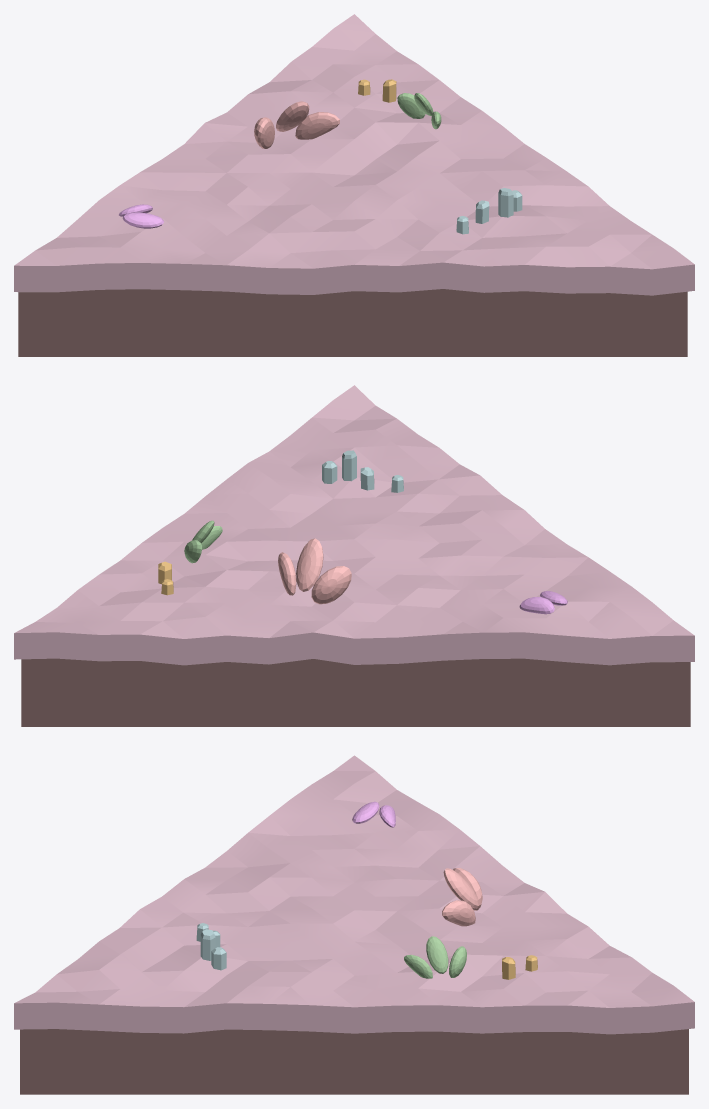
The model's file is TILE_06_01_Candy.fbx.
3 views of the same model, one above another, from view 1: azimuth 30°, elevation 25°; view 2: azimuth 150°, elevation 25°; view 3: azimuth 270°, elevation 25° (orthographic).
Parts seen in each view (by area): view 1: TILESURFACE15, TILE19, pSphere20 1, pSphere18 1, pSphere19 1, pSphere18 2; view 2: TILESURFACE15, TILE19, pSphere19 1, pSphere18 1, pSphere20 1; view 3: TILESURFACE15, TILE19, pSphere18 1, pSphere20 1, pSphere18.
Part boxes in pixels (x1,y1,x2,y2): TILESURFACE15: [14, 14, 694, 295]; TILE19: [18, 289, 687, 356]; pSphere20 1: [295, 112, 339, 139]; pSphere18 1: [276, 101, 309, 131]; pSphere19 1: [254, 117, 274, 148]; pSphere18 2: [122, 212, 163, 228]; TILESURFACE15: [14, 385, 694, 665]; TILE19: [21, 658, 690, 726]; pSphere19 1: [311, 566, 351, 604]; pSphere18 1: [296, 538, 323, 591]; pSphere20 1: [278, 552, 296, 595]; TILESURFACE15: [14, 755, 694, 1034]; TILE19: [20, 1029, 688, 1094]; pSphere18 1: [443, 868, 479, 908]; pSphere20 1: [442, 900, 475, 926]; pSphere18: [426, 936, 448, 973].
Size of the model in its own units: 153 by 40.32 by 176.
